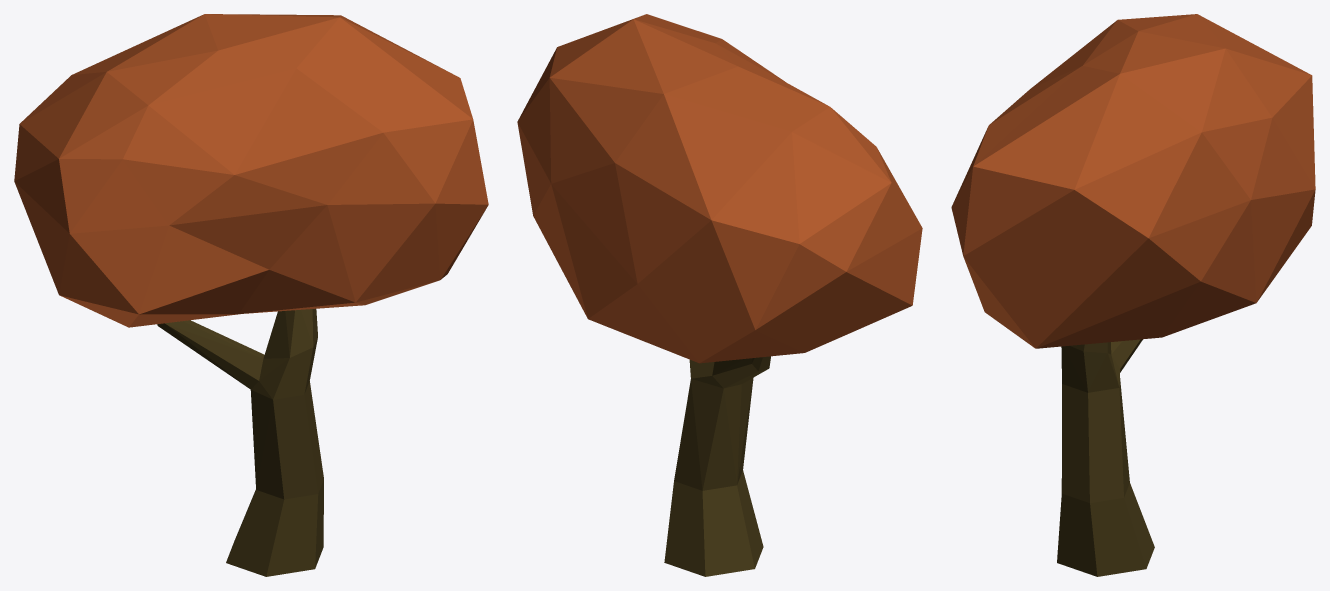
File: Bush00.fbx
3 views of the same model, side by side, from view 1: azimuth 30°, elevation 25°; view 2: azimuth 150°, elevation 25°; view 3: azimuth 270°, elevation 25° (orthographic).
Visible parts, largest first — view 1: Bush00; view 2: Bush00; view 3: Bush00.
Boxes of the visible parts, x1=… form: Bush00: x1=14, y1=14, x2=488, y2=576; Bush00: x1=517, y1=14, x2=922, y2=576; Bush00: x1=951, y1=14, x2=1315, y2=576.
Bounding box in the file's own units: 114 × 149 × 94.89.
